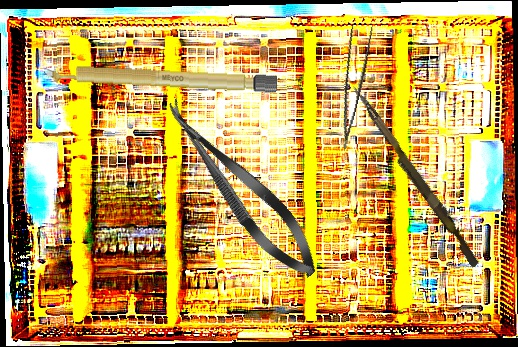Micro Scissor: (152, 89, 330, 289)
Pusher: (345, 84, 484, 268)
Scalpel Handle: (43, 62, 278, 94)
Tissue Forceps: (322, 19, 378, 150)
